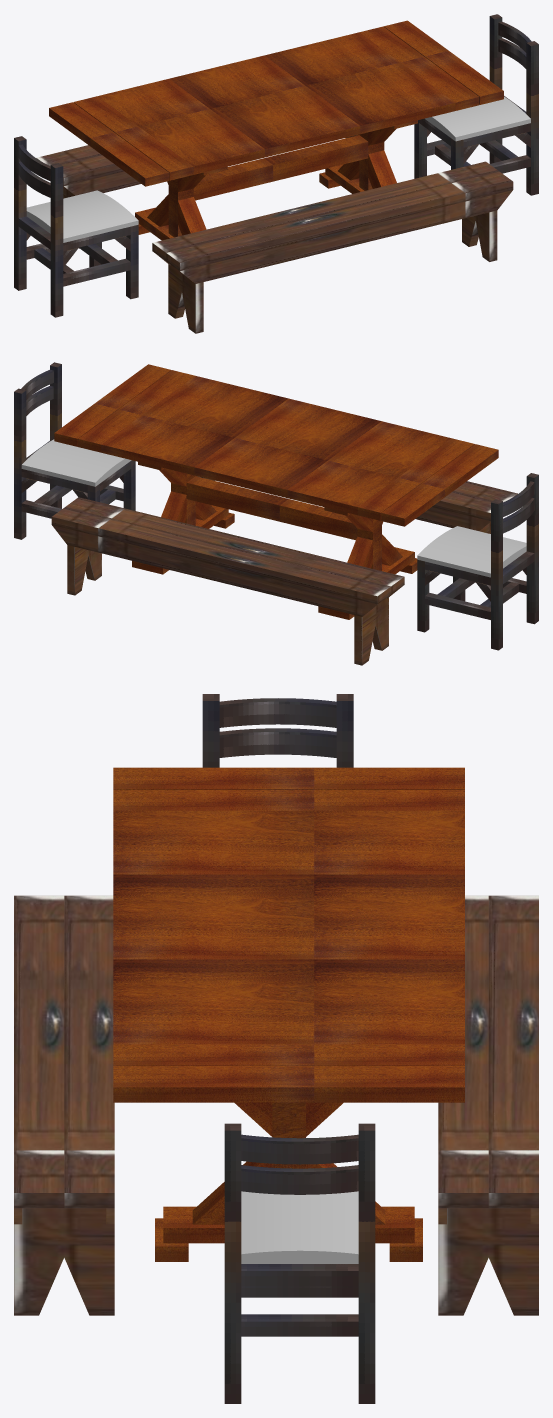
3 renders of one model, top to bottom at view 1: azimuth 30°, elevation 25°; view 2: azimuth 150°, elevation 25°; view 3: azimuth 270°, elevation 25°, orthographic. The views are drawn at different scales.
Visible parts, largest first — view 1: mesh1_mesh1-geometry, mesh19_mesh19-geometry, mesh13_mesh13-geometry, mesh21_mesh21-geometry, mesh15_mesh15-geometry, mesh37_mesh37-geometry, mesh11_mesh11-geometry, mesh17_mesh17-geometry, mesh7_mesh7-geometry, mesh33_mesh33-geometry, mesh23_mesh23-geometry, mesh25_mesh25-geometry (+6 smaller); view 2: mesh1_mesh1-geometry, mesh19_mesh19-geometry, mesh13_mesh13-geometry, mesh15_mesh15-geometry, mesh21_mesh21-geometry, mesh37_mesh37-geometry, mesh11_mesh11-geometry, mesh17_mesh17-geometry, mesh7_mesh7-geometry, mesh33_mesh33-geometry, mesh25_mesh25-geometry, mesh23_mesh23-geometry (+7 smaller); view 3: mesh1_mesh1-geometry, mesh19_mesh19-geometry, mesh13_mesh13-geometry, mesh17_mesh17-geometry, mesh21_mesh21-geometry, mesh33_mesh33-geometry, mesh37_mesh37-geometry, mesh27_mesh27-geometry, mesh3_mesh3-geometry, mesh7_mesh7-geometry, mesh31_mesh31-geometry, mesh5_mesh5-geometry (+1 smaller).
Boxes of the visible parts, bbox=[...] form: mesh1_mesh1-geometry: bbox=[97, 32, 455, 174]; mesh19_mesh19-geometry: bbox=[36, 145, 513, 270]; mesh13_mesh13-geometry: bbox=[49, 20, 503, 186]; mesh21_mesh21-geometry: bbox=[14, 14, 538, 317]; mesh15_mesh15-geometry: bbox=[63, 171, 512, 283]; mesh37_mesh37-geometry: bbox=[26, 96, 530, 242]; mesh11_mesh11-geometry: bbox=[193, 135, 368, 200]; mesh17_mesh17-geometry: bbox=[63, 135, 497, 333]; mesh7_mesh7-geometry: bbox=[147, 127, 396, 235]; mesh33_mesh33-geometry: bbox=[18, 21, 531, 197]; mesh23_mesh23-geometry: bbox=[89, 120, 463, 299]; mesh25_mesh25-geometry: bbox=[26, 140, 530, 286]; mesh1_mesh1-geometry: bbox=[101, 376, 451, 515]; mesh19_mesh19-geometry: bbox=[51, 481, 517, 604]; mesh13_mesh13-geometry: bbox=[54, 364, 498, 526]; mesh15_mesh15-geometry: bbox=[52, 507, 490, 616]; mesh21_mesh21-geometry: bbox=[14, 362, 538, 650]; mesh37_mesh37-geometry: bbox=[21, 439, 526, 577]; mesh11_mesh11-geometry: bbox=[186, 476, 357, 540]; mesh17_mesh17-geometry: bbox=[67, 476, 490, 665]; mesh7_mesh7-geometry: bbox=[159, 468, 402, 568]; mesh33_mesh33-geometry: bbox=[21, 369, 534, 533]; mesh25_mesh25-geometry: bbox=[21, 485, 526, 619]; mesh23_mesh23-geometry: bbox=[87, 460, 465, 632]; mesh1_mesh1-geometry: bbox=[113, 810, 464, 1044]; mesh19_mesh19-geometry: bbox=[14, 895, 538, 1208]; mesh13_mesh13-geometry: bbox=[113, 767, 464, 1102]; mesh17_mesh17-geometry: bbox=[14, 1208, 538, 1315]; mesh21_mesh21-geometry: bbox=[202, 694, 375, 1403]; mesh33_mesh33-geometry: bbox=[219, 698, 358, 1194]; mesh37_mesh37-geometry: bbox=[241, 1191, 358, 1263]; mesh27_mesh27-geometry: bbox=[241, 1286, 358, 1336]; mesh3_mesh3-geometry: bbox=[163, 1206, 414, 1243]; mesh7_mesh7-geometry: bbox=[192, 1102, 385, 1224]; mesh31_mesh31-geometry: bbox=[241, 1264, 358, 1286]; mesh5_mesh5-geometry: bbox=[155, 1218, 422, 1261].
Bounding box in the file's own units: 0.8663 × 0.2487 × 0.4331.
